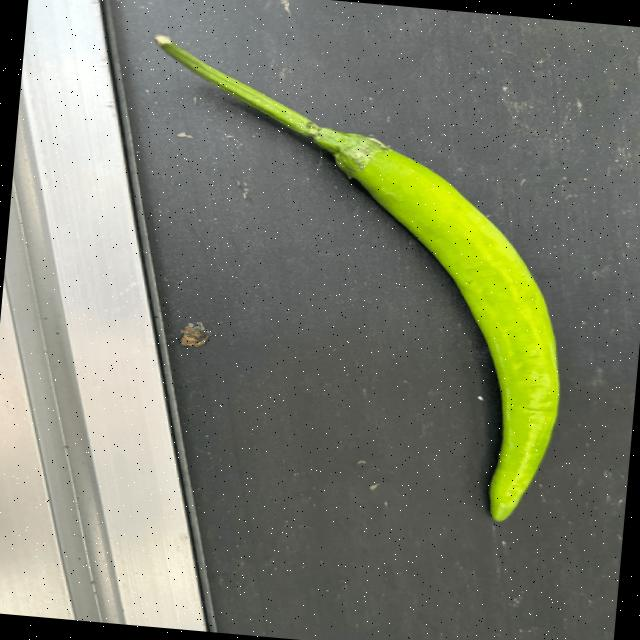chili: (330, 131, 560, 522)
